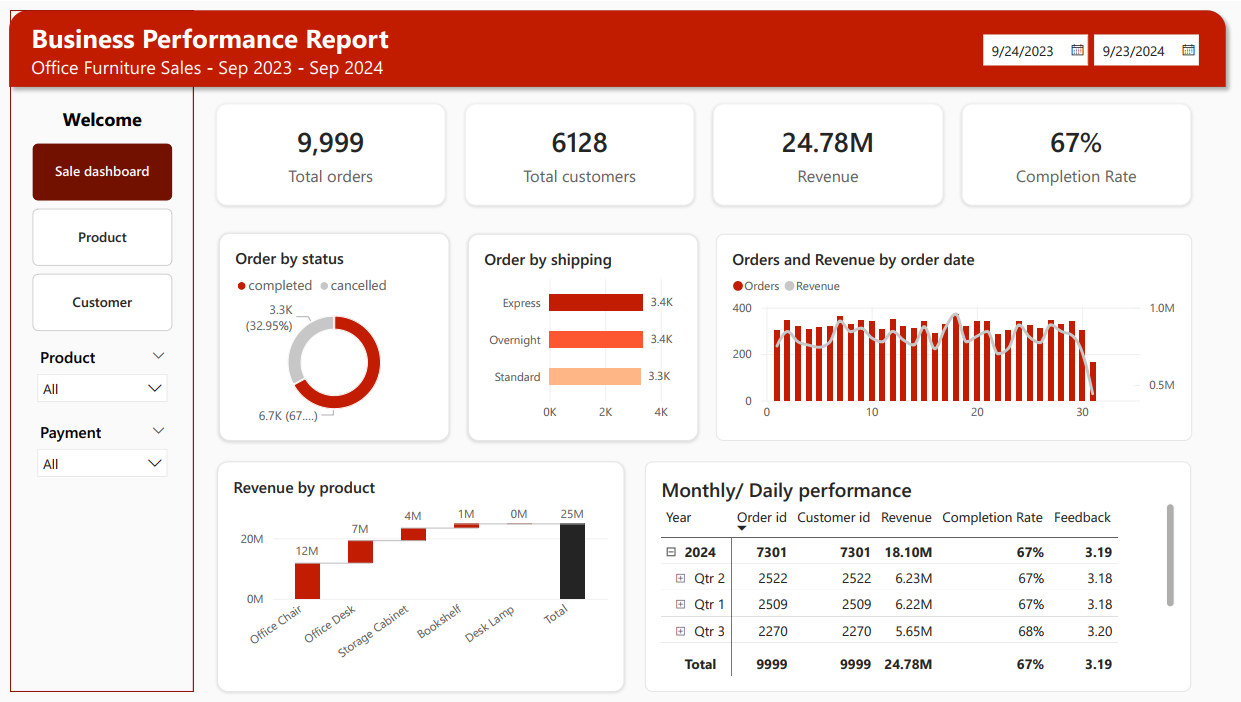

This screenshot's page, from the dashboard's own definition file:
{"tool":"powerbi","page":{"name":"Sale dashboard","canvas":[1280,720],"ordinal":0},"visuals":[{"type":"shape","box":[10.1,8.6,188.6,701.3],"z":0},{"type":"shape","box":[0,0,1268.6,95.7],"z":1000},{"type":"textbox","box":[31.7,18.7,1127.5,77.8],"z":2000},{"type":"card","fields":{"Values":["Count(orders.order id)"]},"box":[221.8,105.3,236.2,105.1],"z":3000},{"type":"card","fields":{"Values":["Count(orders.customer id)"]},"box":[477.6,105.3,236.2,105.1],"z":4000},{"type":"card","fields":{"Values":["*Measure table.M_revenue"]},"box":[733.4,105.3,236.2,105.1],"z":5000},{"type":"card","fields":{"Values":["*Measure table.M_Completion Rate"]},"box":[989.3,105.3,236.2,105.1],"z":6000},{"type":"donutChart","title":"Order by status","fields":{"Category":["orders.Status"],"Y":["CountNonNull(orders.order id)"]},"box":[225,238.3,236.7,213.3],"z":7000},{"type":"lineStackedColumnComboChart","title":"Orders and Revenue by order date","fields":{"Category":["orders.order date.Variation.Date Hierarchy.Year","orders.order date.Variation.Date Hierarchy.Quarter","orders.order date.Variation.Date Hierarchy.Month","orders.order date.Variation.Date Hierarchy.Day"],"Y":["CountNonNull(orders.order id)"],"Y2":["*Measure table.M_revenue"]},"box":[736.2,238.6,490,213.3],"z":8000},{"type":"barChart","title":"Order by shipping","fields":{"Category":["shipping.shipping type"],"Y":["CountNonNull(orders.order id)"]},"box":[481.2,238.6,236.7,213.3],"z":9000},{"type":"waterfallChart","title":"Revenue by product","fields":{"Category":["product.product type"],"Y":["*Measure table.M_revenue"]},"box":[223.3,473.3,418.3,236.7],"z":10000},{"type":"pivotTable","title":"Monthly/ Daily performance","fields":{"Rows":["orders.order date.Variation.Date Hierarchy.Year","orders.order date.Variation.Date Hierarchy.Quarter","orders.order date.Variation.Date Hierarchy.Month","orders.order date.Variation.Date Hierarchy.Day"],"Values":["CountNonNull(orders.order id)","CountNonNull(orders.customer id)","*Measure table.M_revenue","*Measure table.M_Completion Rate","Avg(orders.feedback)"]},"box":[663.3,473.3,561.7,236.7],"z":11000},{"type":"pageNavigator","box":[33.1,146.4,144.3,195.7],"z":12000},{"type":"textbox","box":[33.1,107.9,144.3,31.4],"z":13000},{"type":"slicer","fields":{"Values":["product.product type"]},"box":[33.1,355,144.3,74.3],"z":14000},{"type":"slicer","fields":{"Values":["payment.payment type"]},"box":[33.1,432.1,144.3,85.7],"z":15000},{"type":"slicer","fields":{"Values":["orders.order date"]},"box":[1002.9,28.6,248.6,55.7],"z":15001}]}

Visuals, with their boxes in screenshot pixels (x1, y1, x2, y2), scaled from the page's 1280x720 canvas onto the 1241x702 screenshot:
shape: (left=10, top=8, right=193, bottom=692)
shape: (left=0, top=0, right=1230, bottom=93)
textbox: (left=31, top=18, right=1124, bottom=94)
card - Count(orders.order id): (left=215, top=103, right=444, bottom=205)
card - Count(orders.customer id): (left=463, top=103, right=692, bottom=205)
card - *Measure table.M_revenue: (left=711, top=103, right=940, bottom=205)
card - *Measure table.M_Completion Rate: (left=959, top=103, right=1188, bottom=205)
"Order by status" donutChart: (left=218, top=232, right=448, bottom=440)
"Orders and Revenue by order date" lineStackedColumnComboChart: (left=714, top=233, right=1189, bottom=441)
"Order by shipping" barChart: (left=467, top=233, right=696, bottom=441)
"Revenue by product" waterfallChart: (left=216, top=461, right=622, bottom=692)
"Monthly/ Daily performance" pivotTable: (left=643, top=461, right=1188, bottom=692)
pageNavigator: (left=32, top=143, right=172, bottom=334)
textbox: (left=32, top=105, right=172, bottom=136)
slicer - product.product type: (left=32, top=346, right=172, bottom=419)
slicer - payment.payment type: (left=32, top=421, right=172, bottom=505)
slicer - orders.order date: (left=972, top=28, right=1213, bottom=82)
